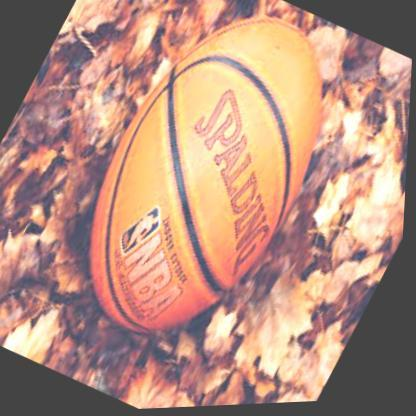basketball: (41, 0, 372, 373)
